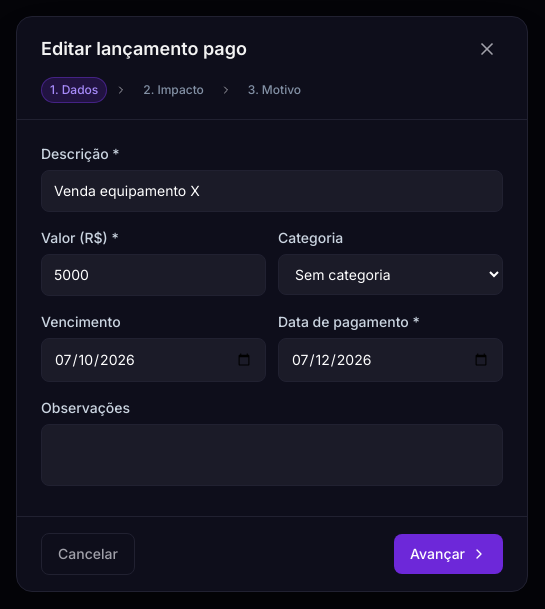
Scenario: EditarPagoModal › etapa 2 exibe o aviso de impacto (âmbar) com saldo e análises
Click the button "Avançar". click: (449, 554)
box: top-left (394, 534), bottom-right (503, 574)
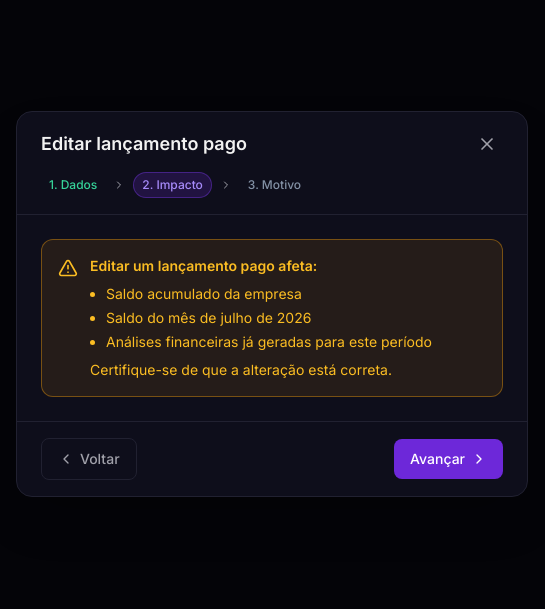
Check: the text "Editar um lançamento pago afeta:" is shown, box top-left (90, 257), bottom-right (317, 274)
Check: the list item "Saldo acumulado da empresa" is shown, box top-left (106, 285), bottom-right (302, 302)
Check: the list item "Análises financeiras já geradas para este período" is shown, box top-left (106, 332), bottom-right (432, 352)
